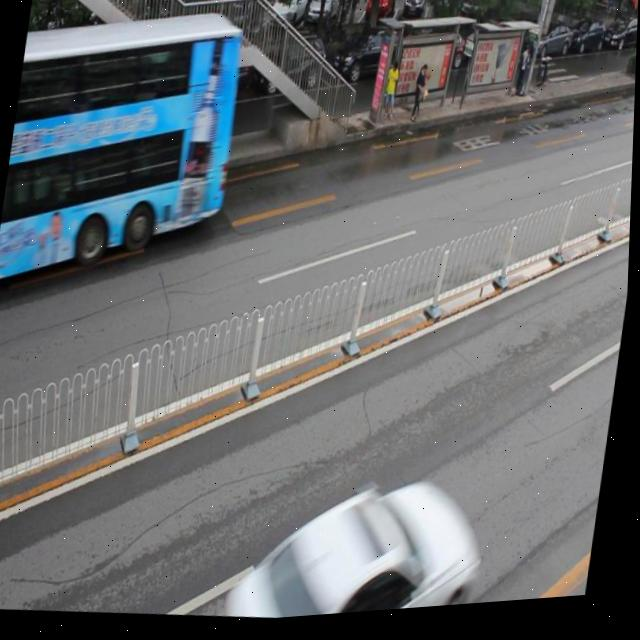car: (210, 460, 492, 627), (46, 57, 146, 142), (147, 48, 250, 120), (143, 66, 223, 153), (326, 26, 412, 100), (249, 34, 327, 106), (13, 82, 41, 143)
van: (0, 0, 250, 309)
